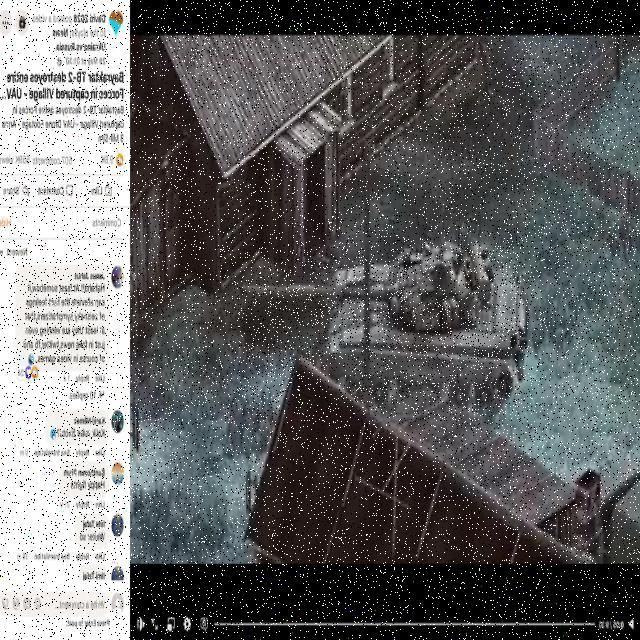MIL_MBT: (242, 240, 527, 416)
